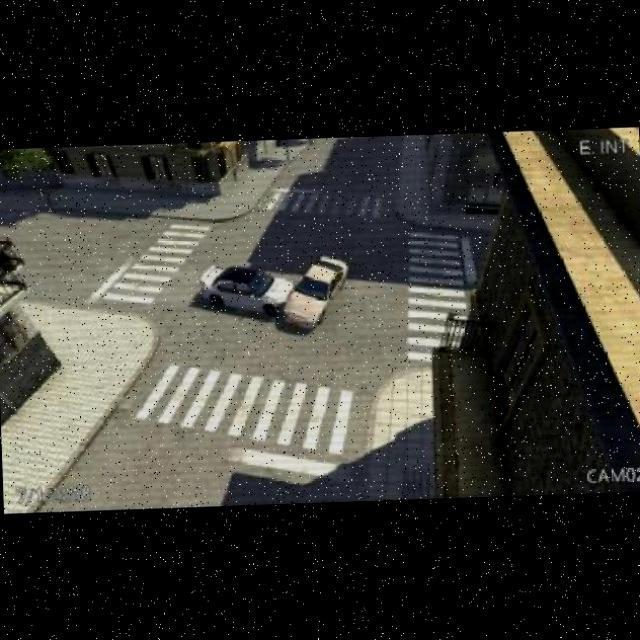accident: (197, 256, 347, 336)
